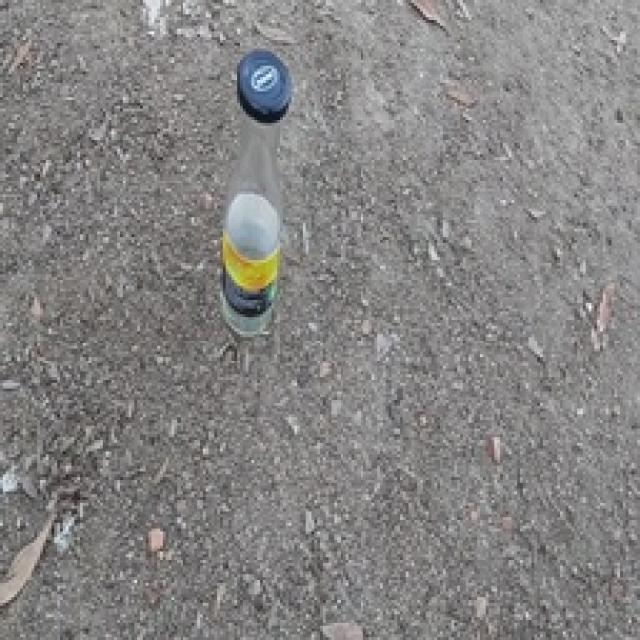Glass: (221, 95, 287, 341)
